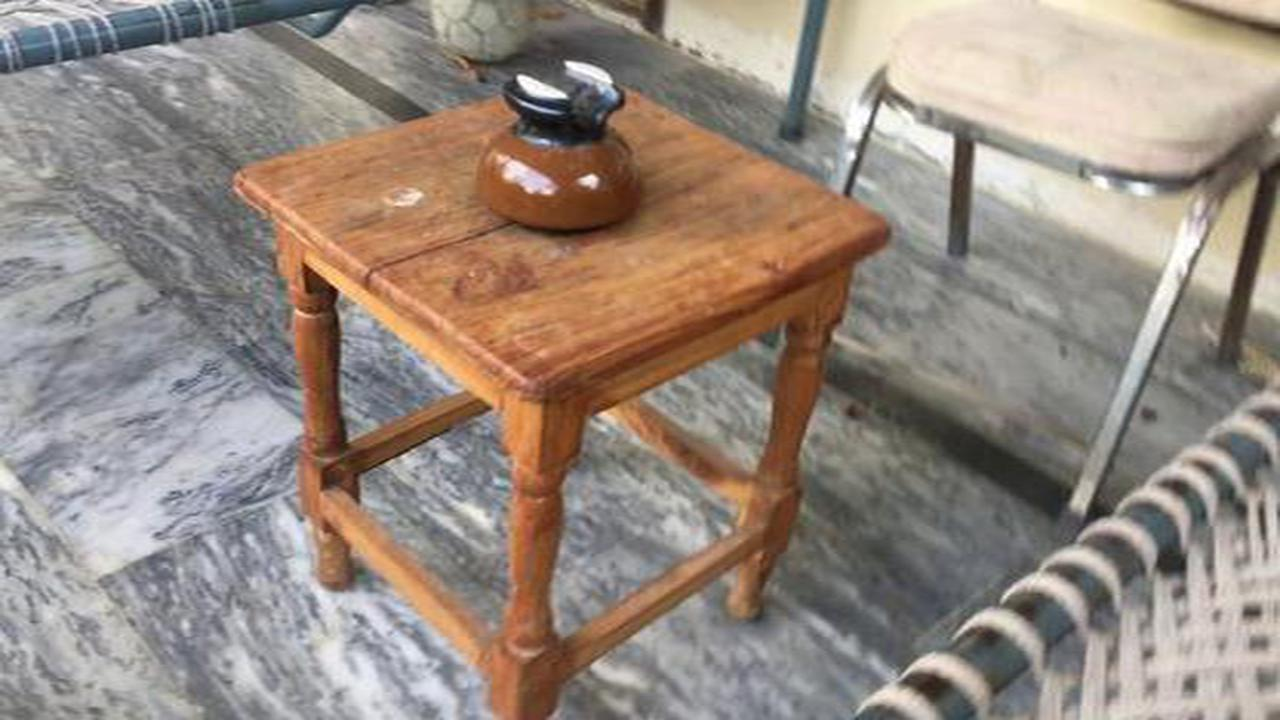insulator_pin: (456, 47, 671, 255)
